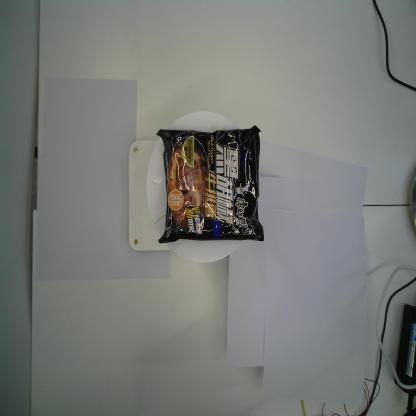Instant Noodles: (154, 124, 266, 245)
